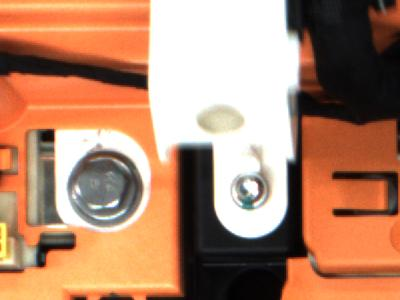nut_b: (58, 144, 154, 238)
